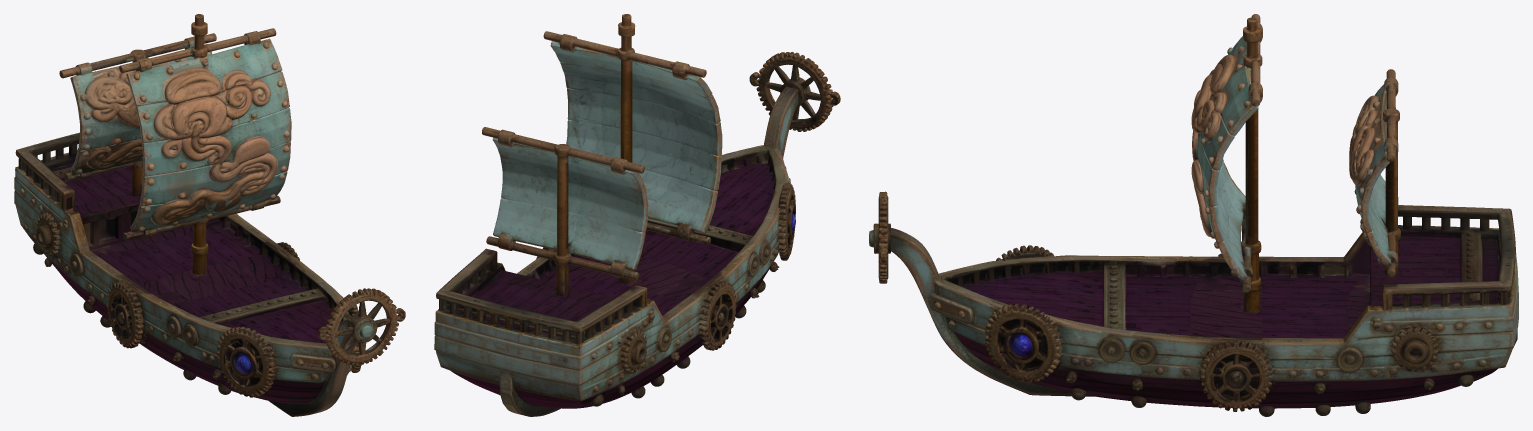
3 renders of one model, left to right at view 1: azimuth 30°, elevation 25°; view 2: azimuth 150°, elevation 25°; view 3: azimuth 270°, elevation 25°, orthographic. The views are drawn at different scales.
Parts seen in each view (by area): view 1: texture_pbr_v128; view 2: texture_pbr_v128; view 3: texture_pbr_v128.
Boxes of the visible parts, left/top/right/bottom form: texture_pbr_v128: left=14, top=14, right=405, bottom=416; texture_pbr_v128: left=434, top=14, right=840, bottom=416; texture_pbr_v128: left=869, top=14, right=1518, bottom=416.
Bounding box in the file's own units: 0.3881 × 0.7039 × 1.1.
Materials: 1 (1 with a texture image).
